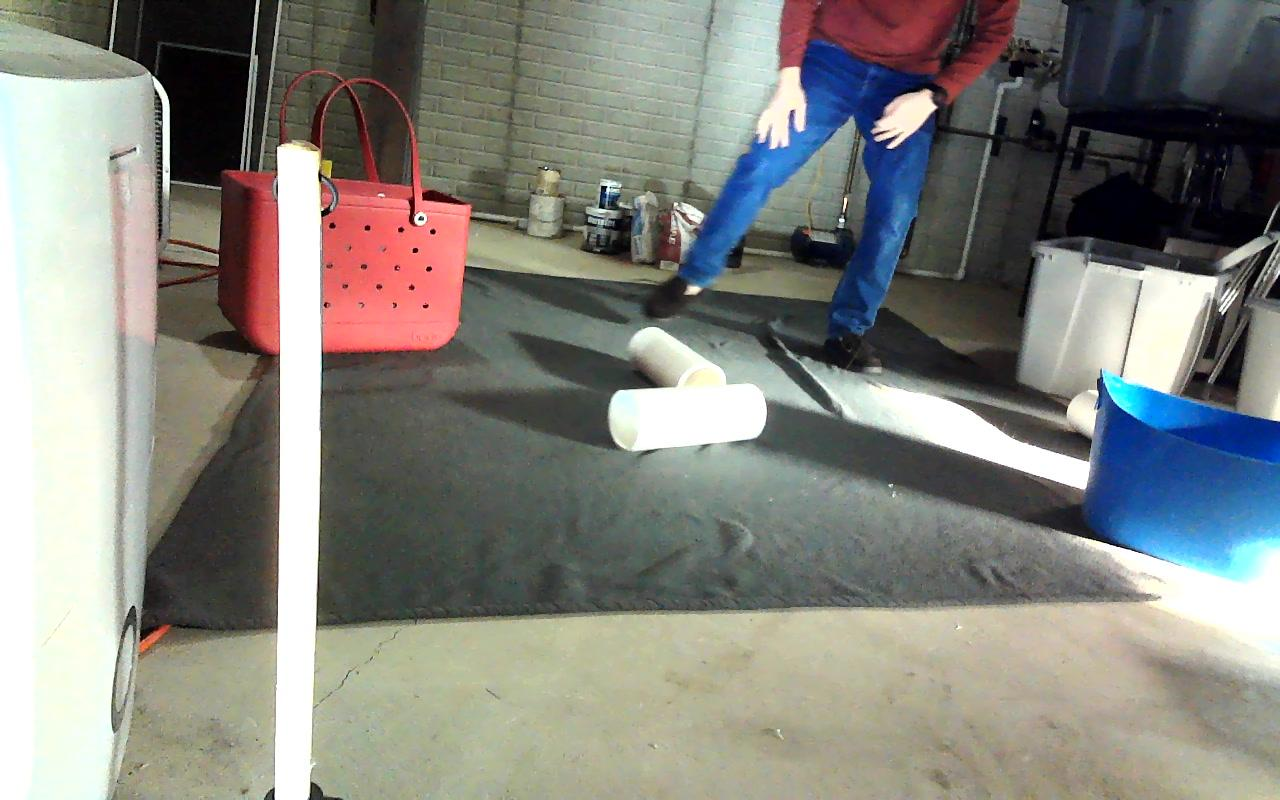coral: (607, 382, 765, 451), (626, 326, 728, 408)
